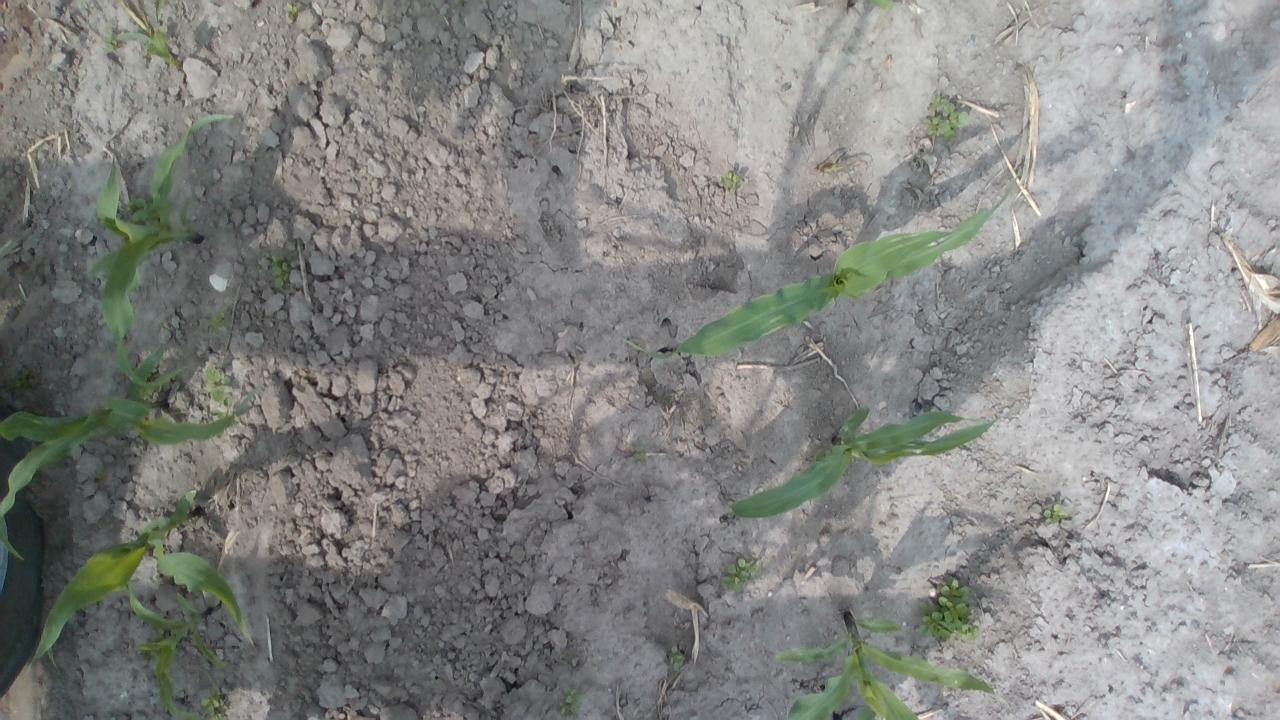Maize: (620, 174, 1014, 367), (0, 344, 260, 563), (29, 484, 259, 690), (89, 111, 241, 397), (726, 404, 1000, 524), (770, 601, 996, 718), (124, 577, 230, 720), (114, 1, 184, 71)
Weeds: (918, 574, 989, 644), (925, 92, 971, 141), (202, 367, 240, 407), (720, 556, 760, 594), (202, 310, 240, 334), (558, 686, 586, 718), (268, 261, 291, 292), (200, 694, 227, 720), (671, 647, 690, 673), (720, 173, 744, 193), (1042, 505, 1066, 519), (634, 446, 650, 463)
